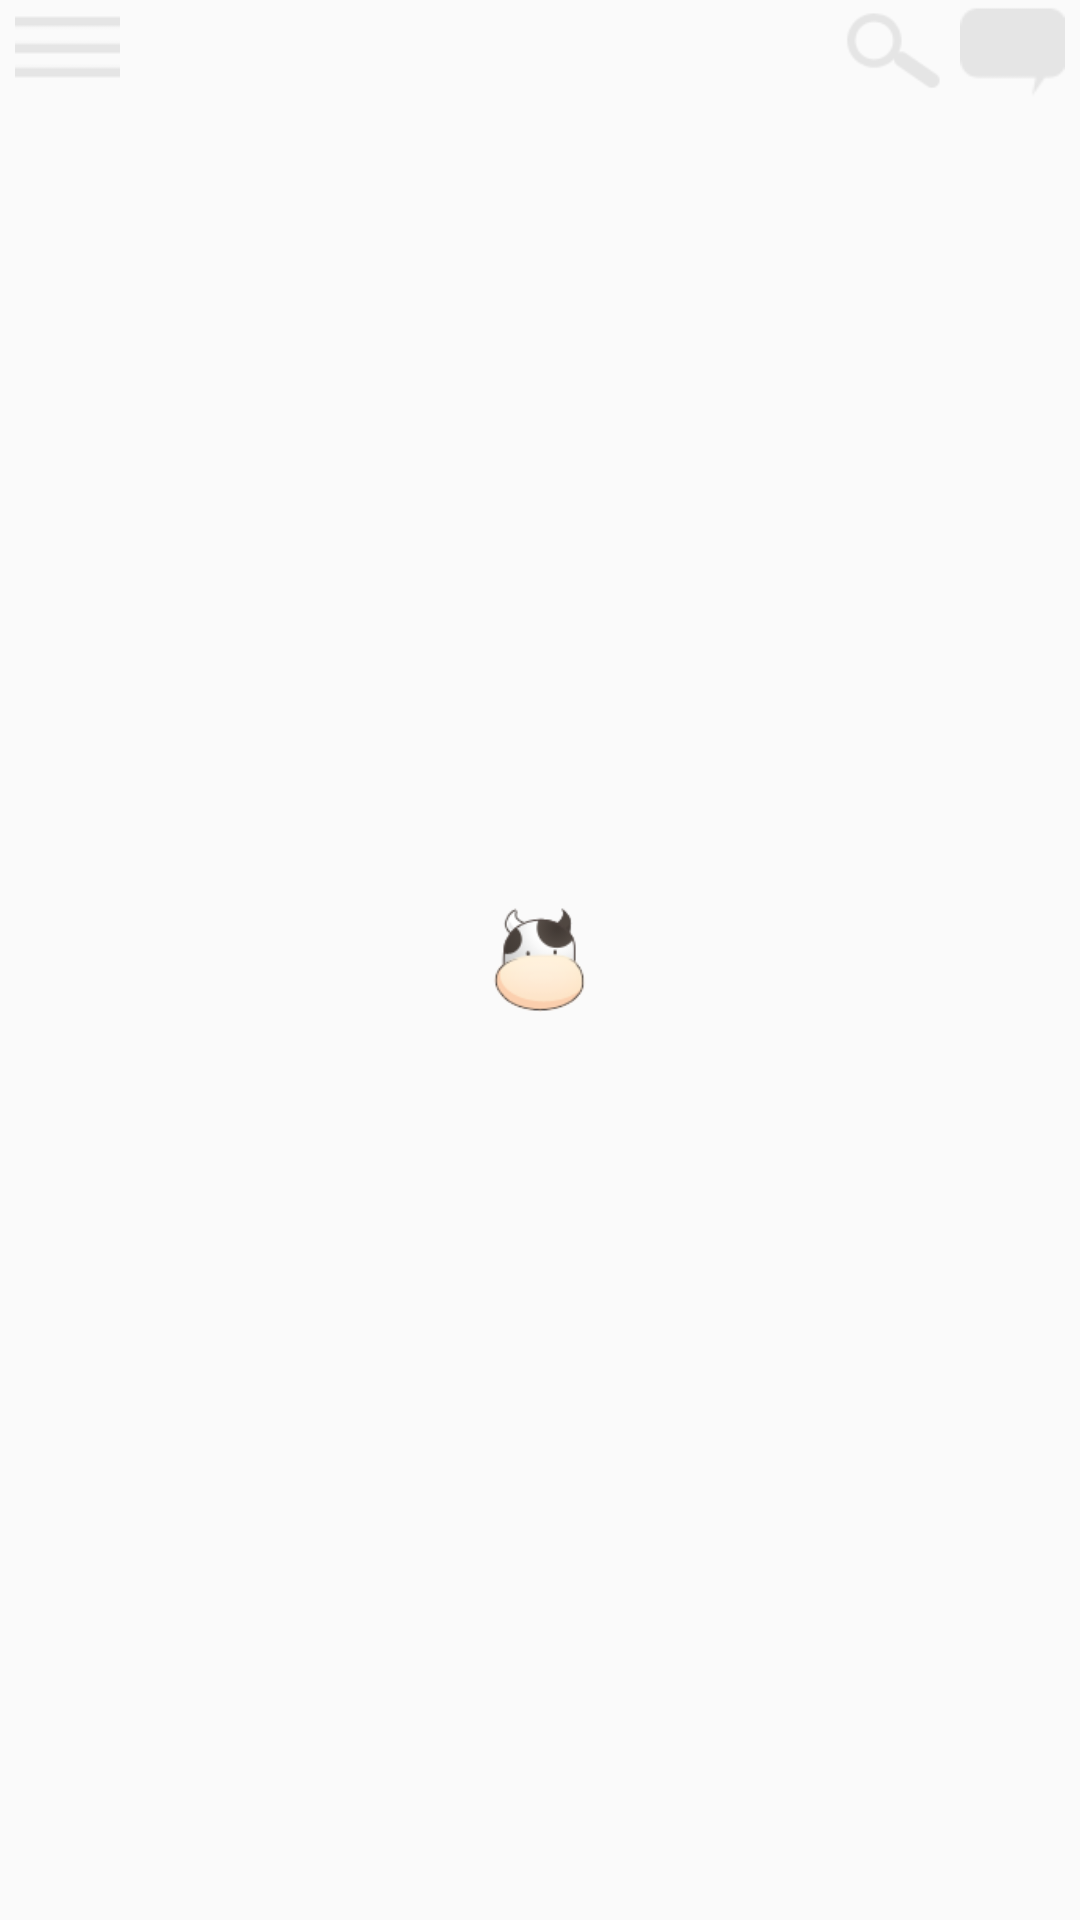

Locate icon controls on the screen. Image size 1080px x 1920px, boxes as (x1, y1, x2, y2).
cowhead: (494, 908, 584, 1011)
